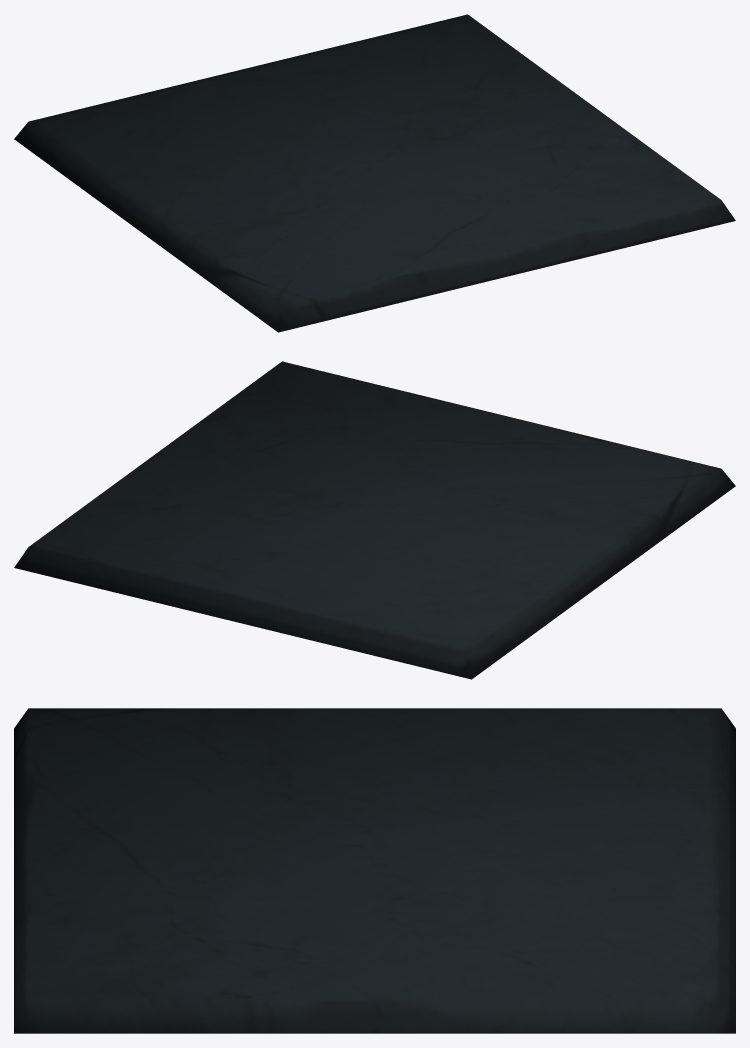
Rendered from 4x4black1.FBX.
The picture shows the model from 3 angles, top to bottom: view 1: azimuth 30°, elevation 25°; view 2: azimuth 150°, elevation 25°; view 3: azimuth 270°, elevation 25°; orthographic projection. The views are drawn at different scales.
Parts seen in each view (by area): view 1: Object006; view 2: Object006; view 3: Object006.
Part boxes in pixels (bbox=[...]): Object006: bbox=[14, 14, 735, 332]; Object006: bbox=[14, 361, 735, 679]; Object006: bbox=[14, 708, 735, 1033].
Bounding box in the file's own units: 25 × 1 × 25.
